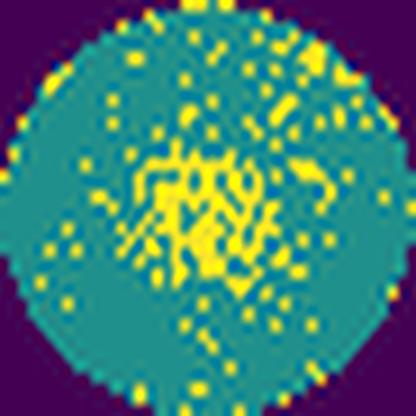Center: (133, 137, 283, 289)
